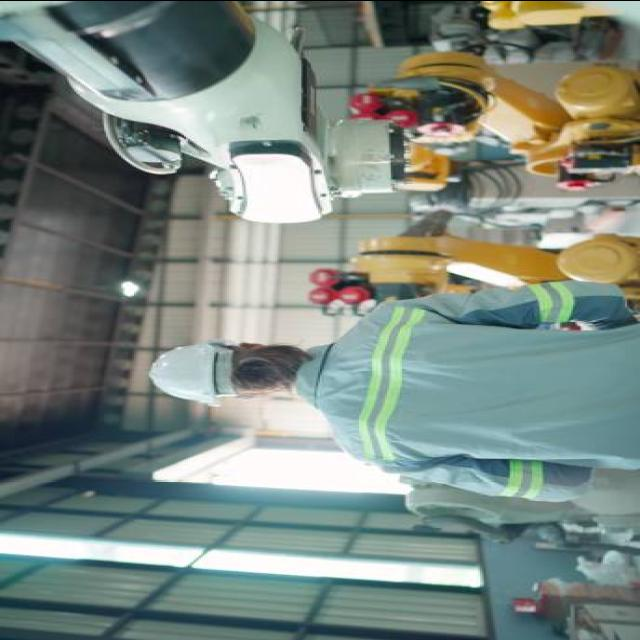Robotic-arm: (0, 0, 438, 226), (358, 52, 640, 182), (288, 232, 640, 320)
